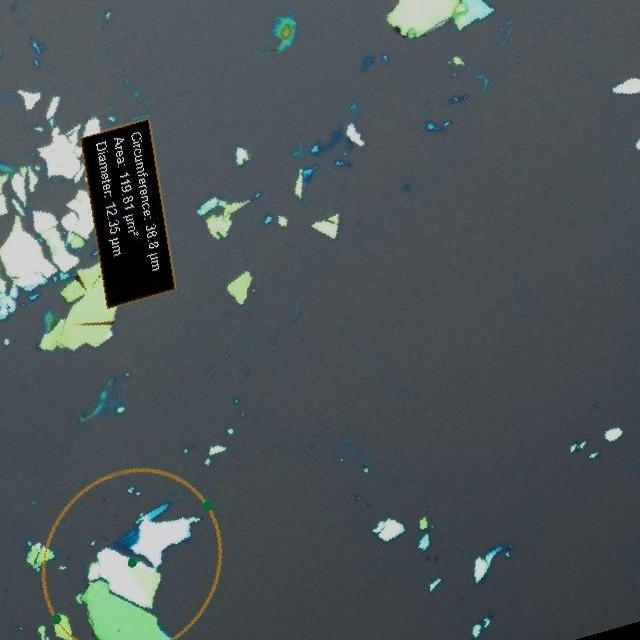monolayer-eWW4: (118, 546, 152, 566)
